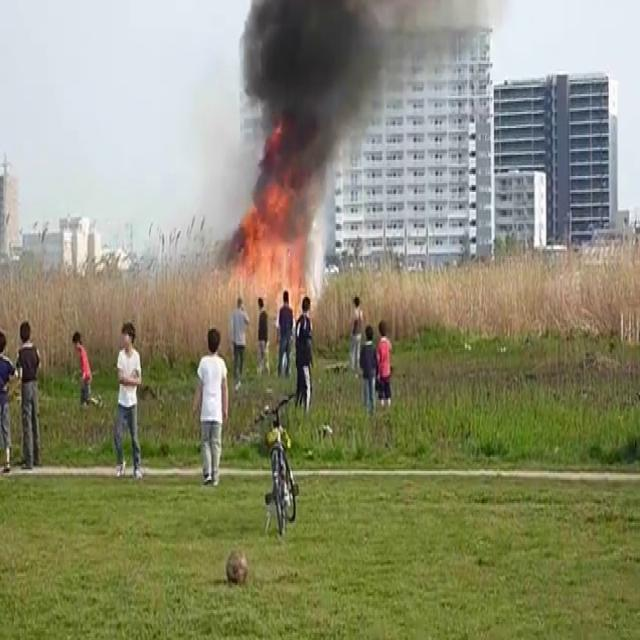Fire: (216, 195, 315, 306)
Smoke: (225, 0, 402, 212)
